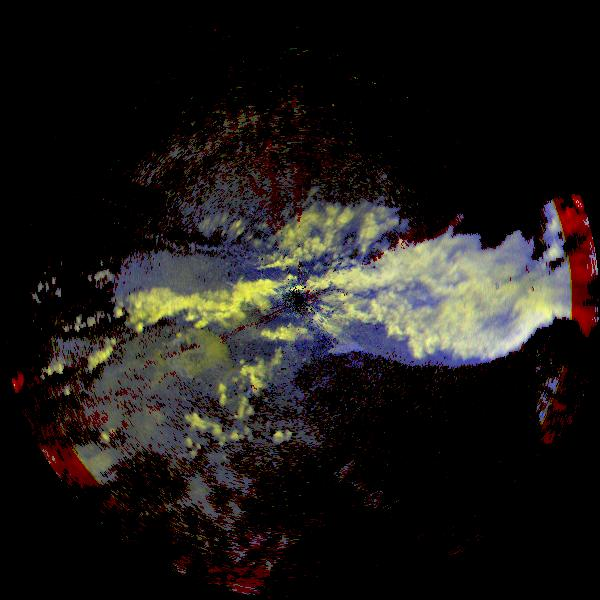roost: (125, 296, 248, 419)
